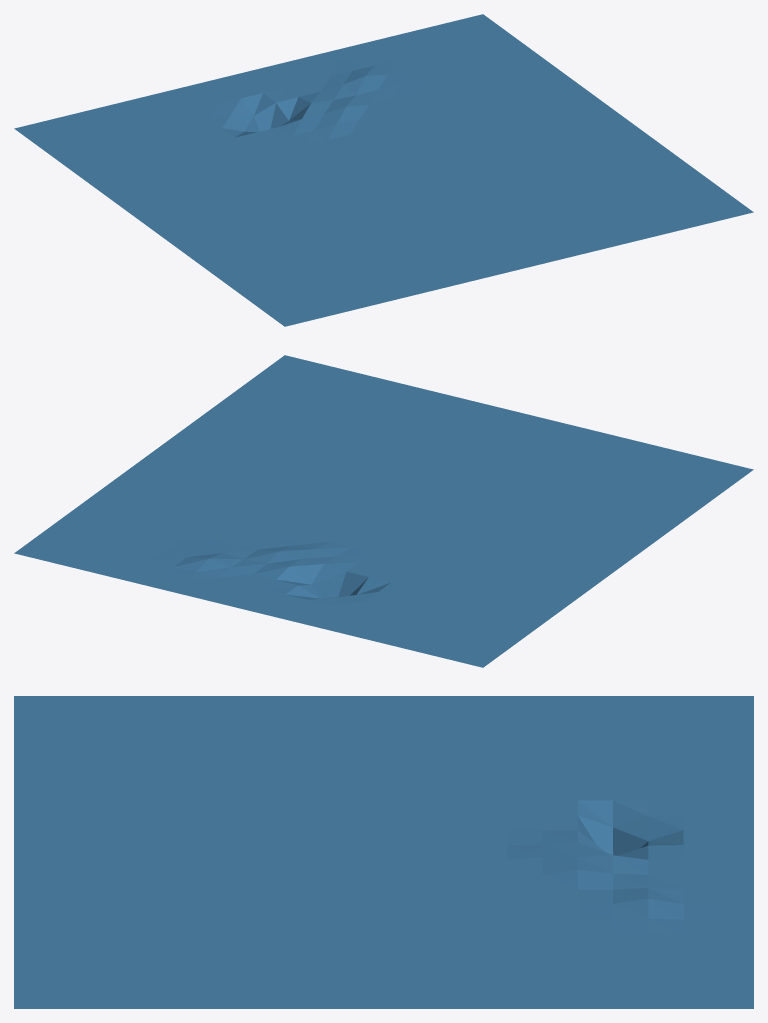
File: DesertMapWater.obj
The picture shows the model from 3 angles, top to bottom: view 1: azimuth 30°, elevation 25°; view 2: azimuth 150°, elevation 25°; view 3: azimuth 270°, elevation 25°; orthographic projection. The views are drawn at different scales.
Visible parts, largest first — view 1: Plane.001; view 2: Plane.001; view 3: Plane.001.
Part boxes in pixels (x1=…): Plane.001: x1=14, y1=14, x2=753, y2=326; Plane.001: x1=14, y1=355, x2=753, y2=667; Plane.001: x1=14, y1=696, x2=753, y2=1008.
Size of the model in its own units: 76.34 by 5.42 by 76.34.
